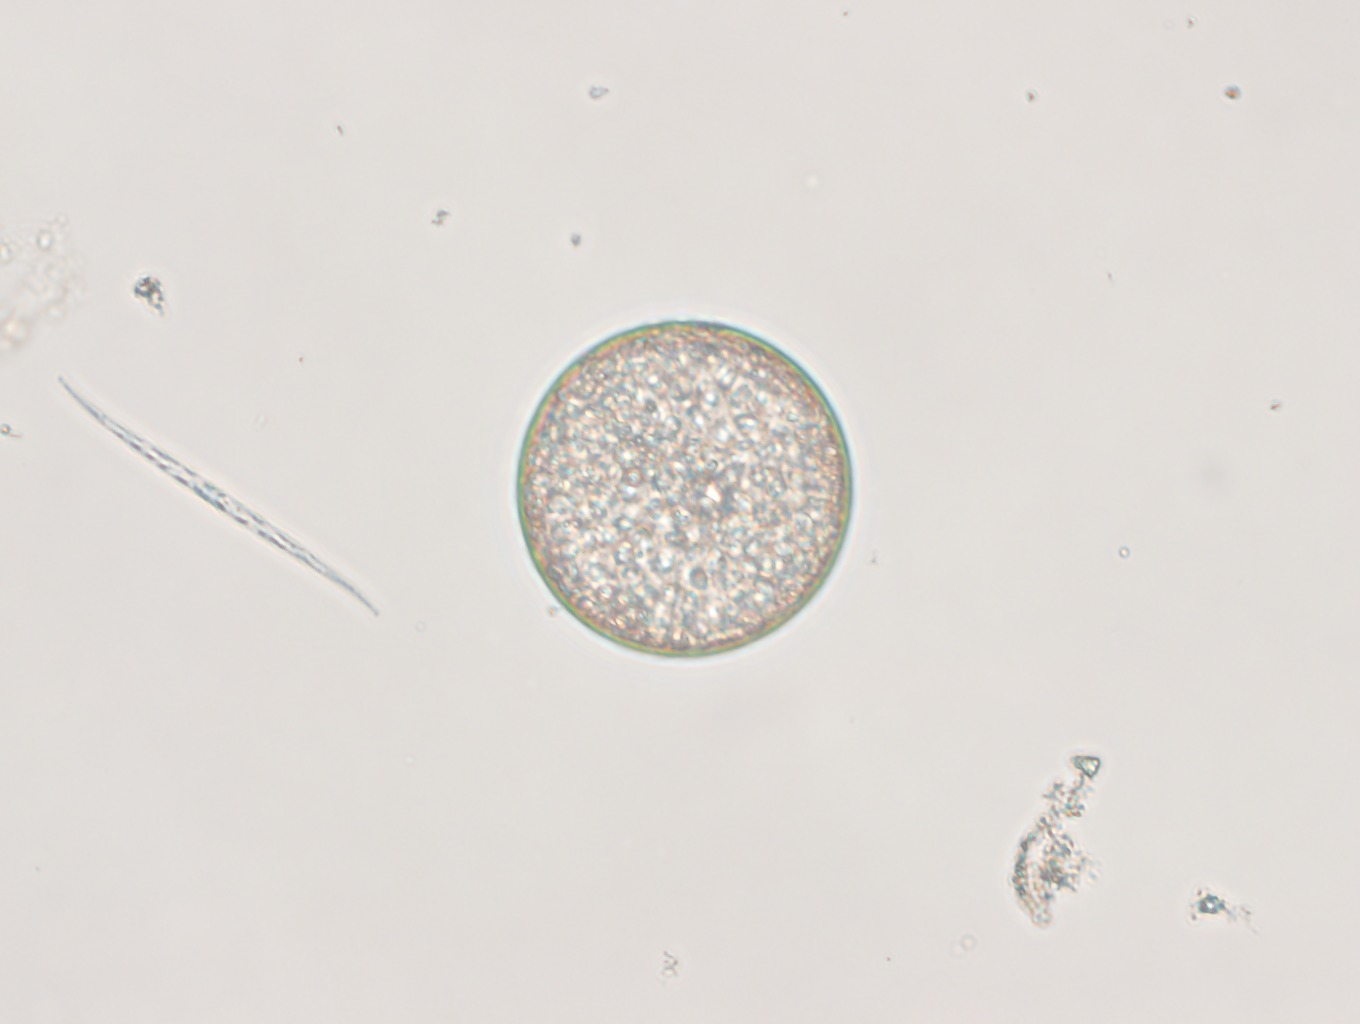coscinodiscus: (515, 318, 853, 660)
pleurosigma pelagicum: (57, 374, 376, 615)
